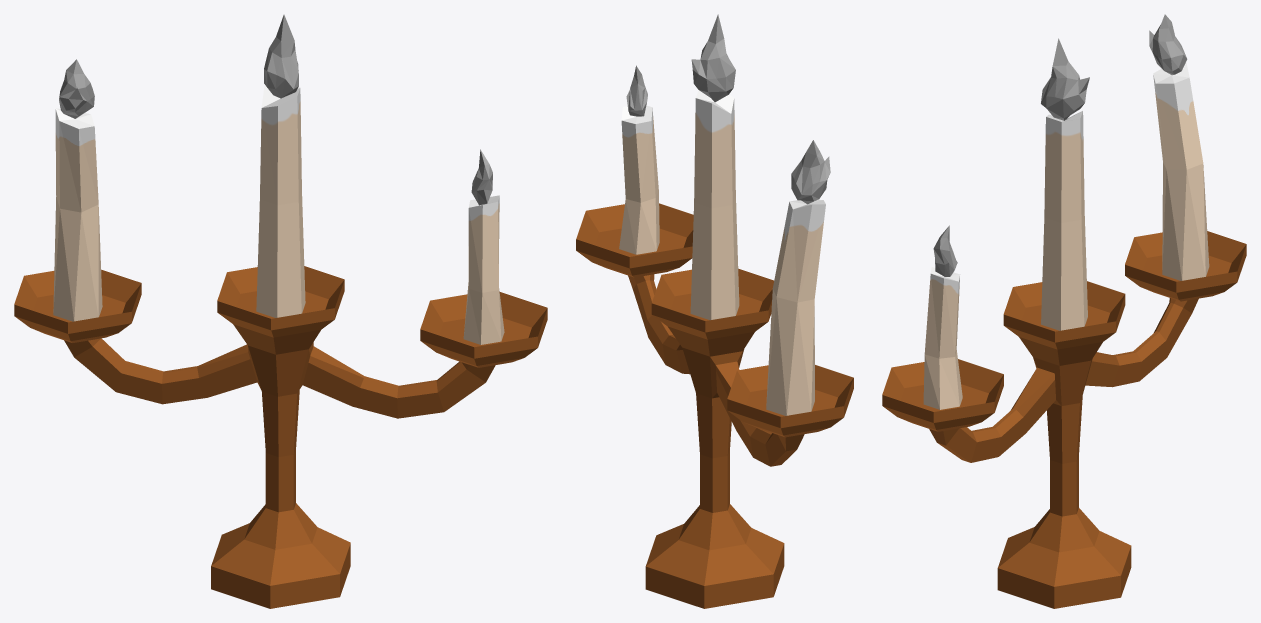
File: candelabra.fbx
3 views of the same model, side by side, from view 1: azimuth 30°, elevation 25°; view 2: azimuth 150°, elevation 25°; view 3: azimuth 270°, elevation 25° (orthographic). The views are drawn at different scales.
Parts seen in each view (by area): view 1: candelabra, flame, tips; view 2: candelabra, flame, tips; view 3: candelabra, flame, tips.
Part boxes in pixels (x1,y1,x2,y2): candelabra: [14, 85, 547, 608]; flame: [59, 48, 492, 205]; tips: [66, 14, 489, 180]; candelabra: [576, 90, 853, 608]; flame: [626, 54, 830, 204]; tips: [634, 14, 830, 171]; candelabra: [882, 62, 1246, 608]; flame: [933, 22, 1187, 276]; tips: [934, 14, 1171, 247].
Bounding box in the file's own units: 0.985 × 1.34 × 0.8196.
3 materials, 1 textured.
